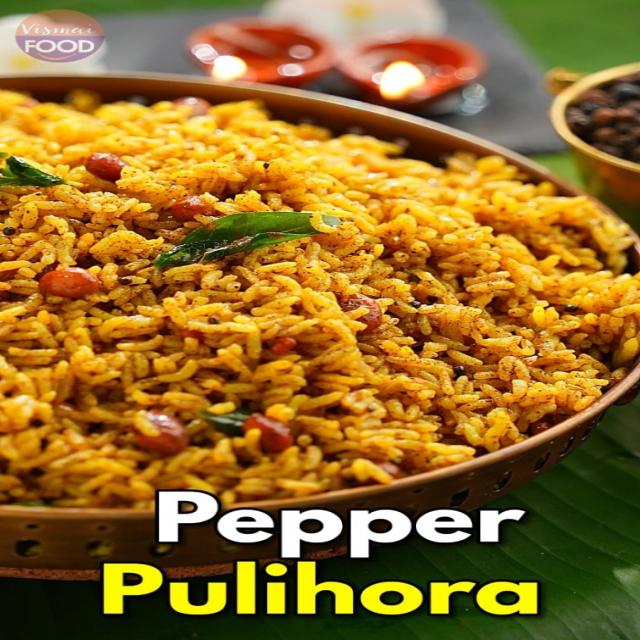puliyogare: (0, 64, 640, 519)
